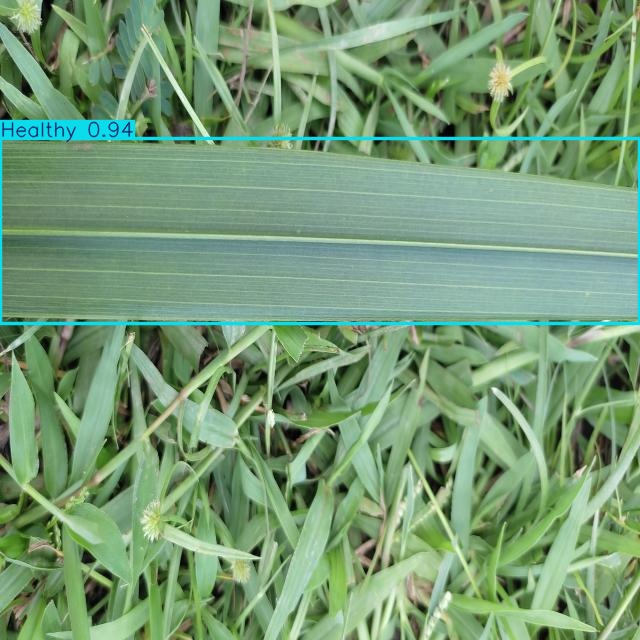Healthy: (0, 138, 640, 323)
